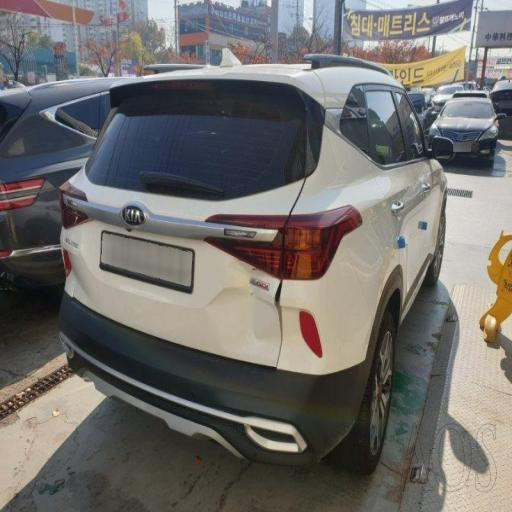dent: (186, 249, 326, 367), (56, 234, 132, 342)
scratch: (342, 167, 458, 247)
